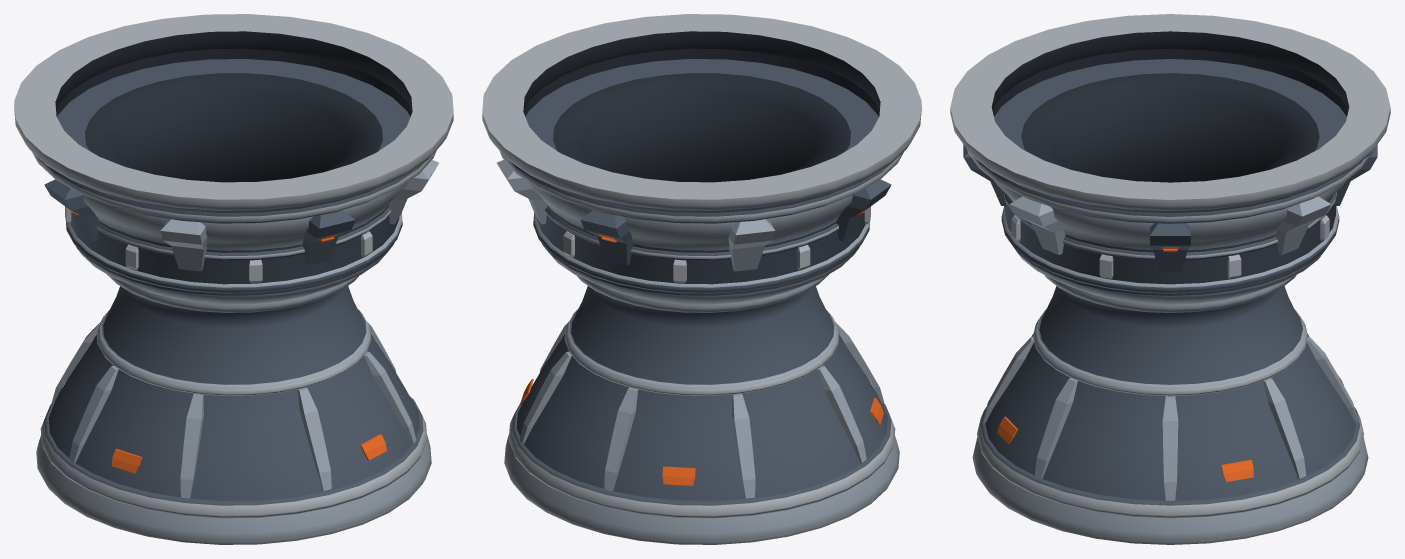
The model's file is motor_principal.glb.
3 views of the same model, side by side, from view 1: azimuth 30°, elevation 25°; view 2: azimuth 150°, elevation 25°; view 3: azimuth 270°, elevation 25° (orthographic).
Visible parts, largest first — view 1: MP-01 | Tobera acampanada, MP-01 | Cámara exterior y collares, MP-01 | Brida de montaje, MP-01 | Aros y nervios de la tobera, MP-01 | Refuerzos, fijaciones y marcas; view 2: MP-01 | Tobera acampanada, MP-01 | Cámara exterior y collares, MP-01 | Brida de montaje, MP-01 | Aros y nervios de la tobera, MP-01 | Refuerzos, fijaciones y marcas; view 3: MP-01 | Tobera acampanada, MP-01 | Cámara exterior y collares, MP-01 | Brida de montaje, MP-01 | Aros y nervios de la tobera, MP-01 | Refuerzos, fijaciones y marcas.
Boxes of the visible parts, x1,y1,x2,y2 form: MP-01 | Tobera acampanada: (36, 274, 431, 544); MP-01 | Cámara exterior y collares: (57, 59, 410, 304); MP-01 | Brida de montaje: (14, 14, 453, 223); MP-01 | Aros y nervios de la tobera: (40, 309, 427, 518); MP-01 | Refuerzos, fijaciones y marcas: (44, 160, 438, 283); MP-01 | Tobera acampanada: (504, 274, 899, 544); MP-01 | Cámara exterior y collares: (525, 59, 878, 304); MP-01 | Brida de montaje: (482, 14, 921, 223); MP-01 | Aros y nervios de la tobera: (508, 309, 895, 518); MP-01 | Refuerzos, fijaciones y marcas: (497, 160, 891, 283); MP-01 | Tobera acampanada: (972, 275, 1368, 544); MP-01 | Cámara exterior y collares: (994, 59, 1346, 304); MP-01 | Brida de montaje: (950, 14, 1390, 223); MP-01 | Aros y nervios de la tobera: (977, 308, 1363, 518); MP-01 | Refuerzos, fijaciones y marcas: (963, 144, 1377, 278).
Size of the model in its own units: 2.09 by 1.86 by 2.09.
